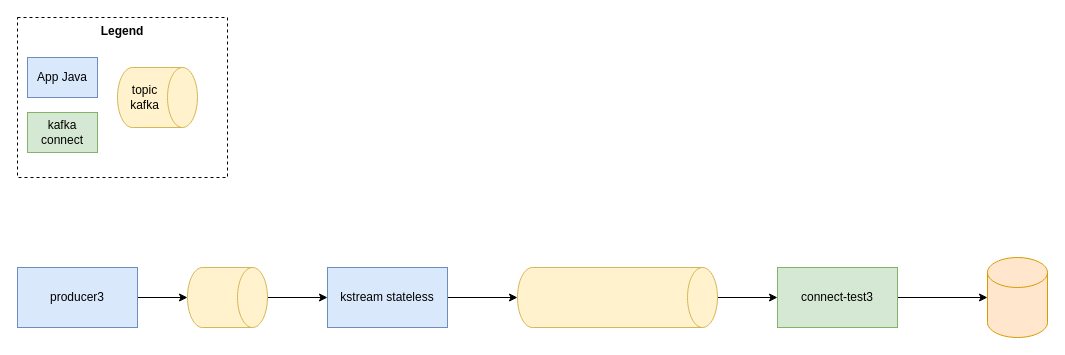
The diagram is 1065 pixels wide and 355 high, and some of its shapes have lost their labels. Each missing label, with the centre of its shape:
"Elastic" belongs at (1017,297).
"test3" belongs at (227,297).
"test_json_kstream_stateless" belongs at (617,297).
